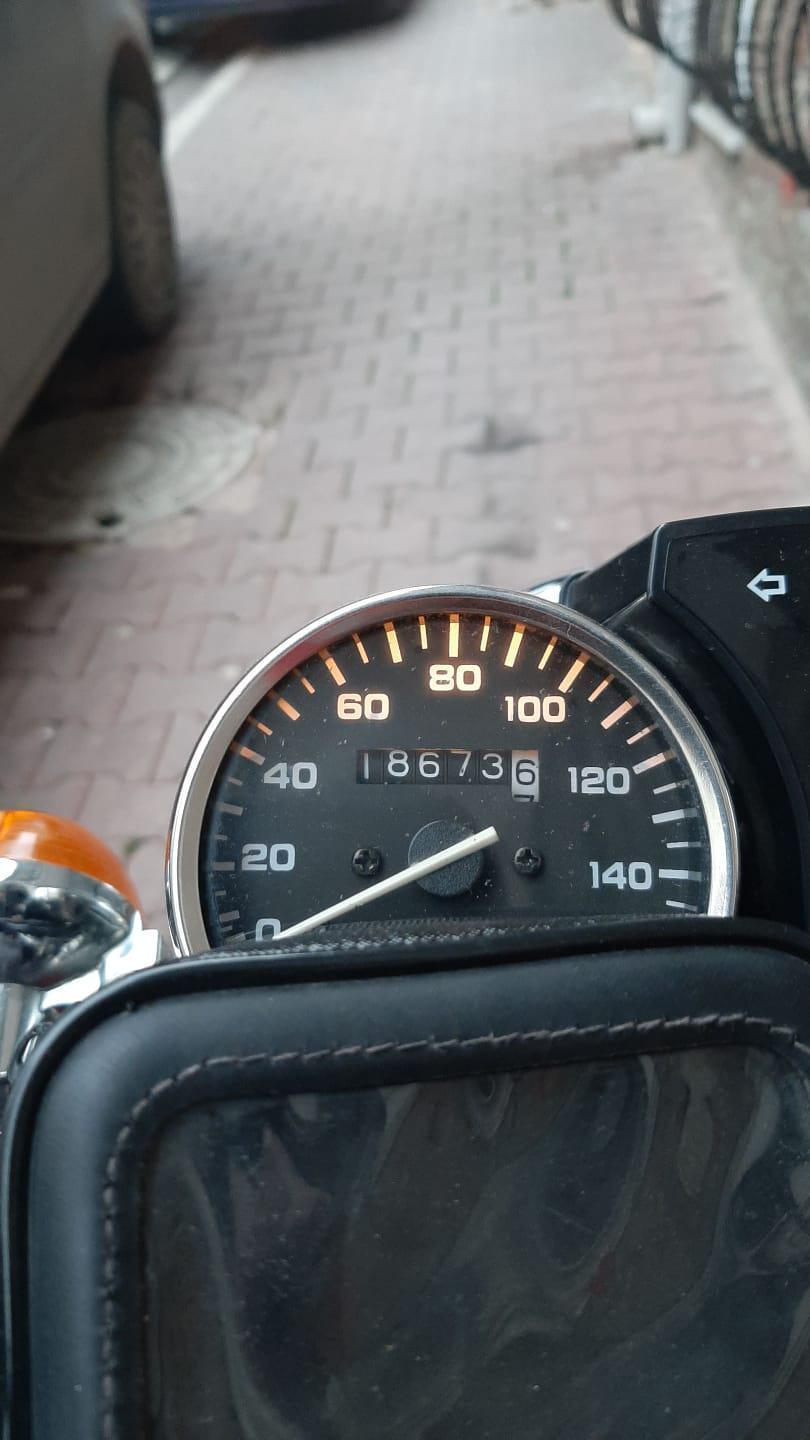1: (357, 748, 375, 789)
3: (480, 750, 503, 781)
6: (416, 746, 442, 783), (513, 754, 538, 788)
7: (446, 746, 472, 777)
8: (384, 745, 411, 784)
odometer: (350, 742, 554, 811)
